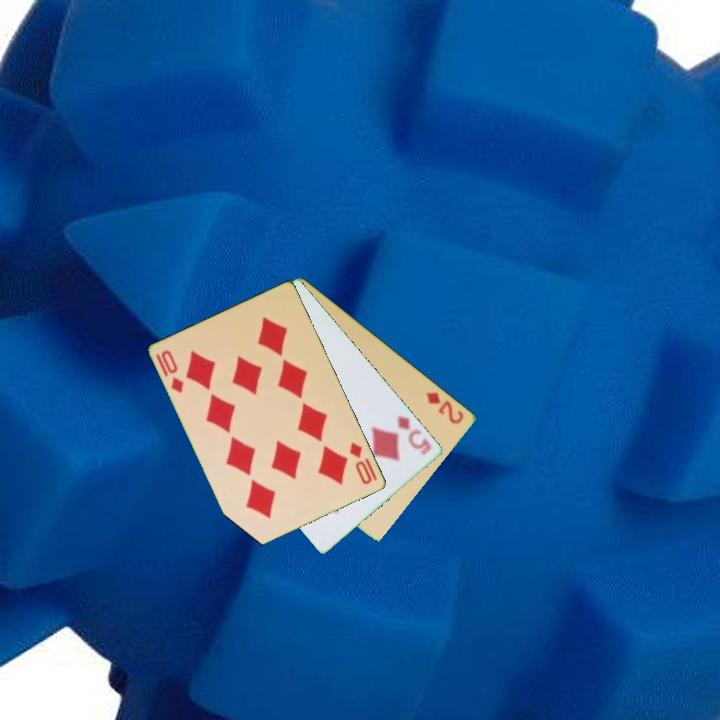10d: (152, 346, 187, 396), (346, 438, 375, 488)
2d: (423, 388, 467, 427)
5d: (394, 411, 434, 458)
